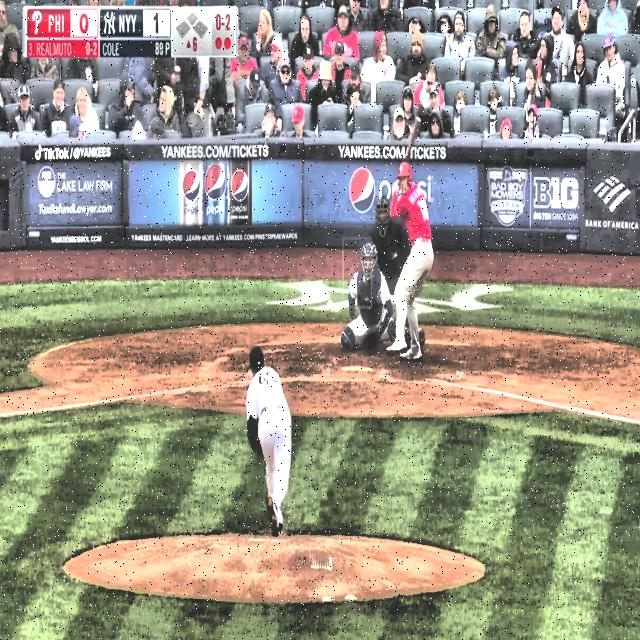baseball: (327, 299, 333, 309)
